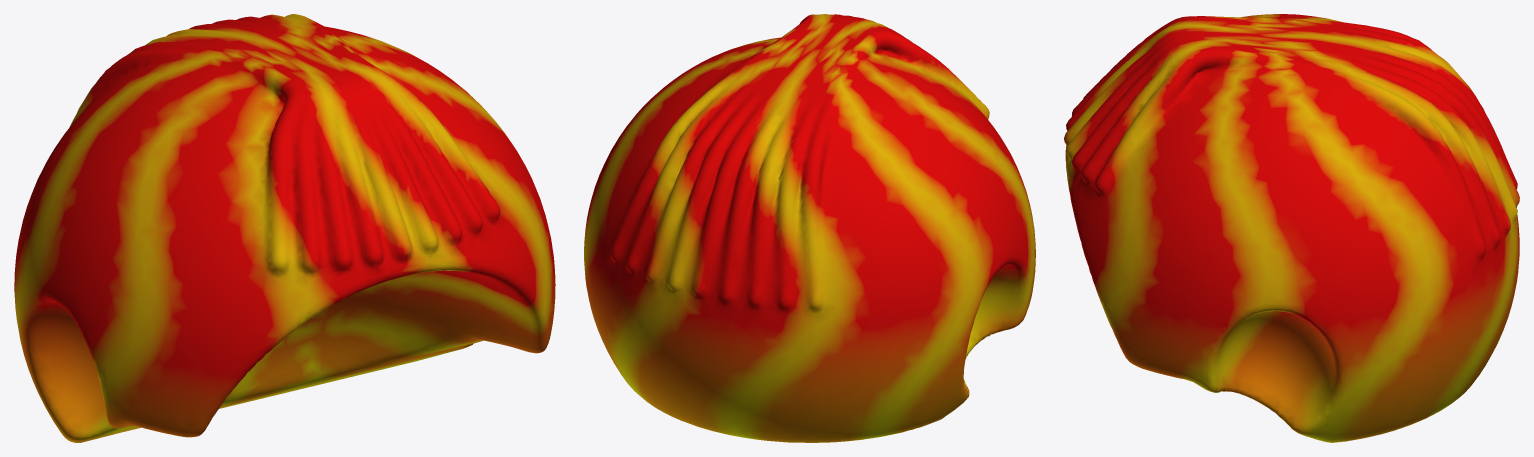
File: cornrows.glb
The picture shows the model from 3 angles, left to right: view 1: azimuth 30°, elevation 25°; view 2: azimuth 150°, elevation 25°; view 3: azimuth 270°, elevation 25°; orthographic projection. The views are drawn at different scales.
Visible parts, largest first — view 1: part; view 2: part; view 3: part.
Part boxes in pixels (x1=…): part: x1=14, y1=14, x2=555, y2=442; part: x1=584, y1=14, x2=1035, y2=442; part: x1=1064, y1=14, x2=1519, y2=442.
Bounding box in the file's own units: 2.01 × 1.58 × 1.95.
